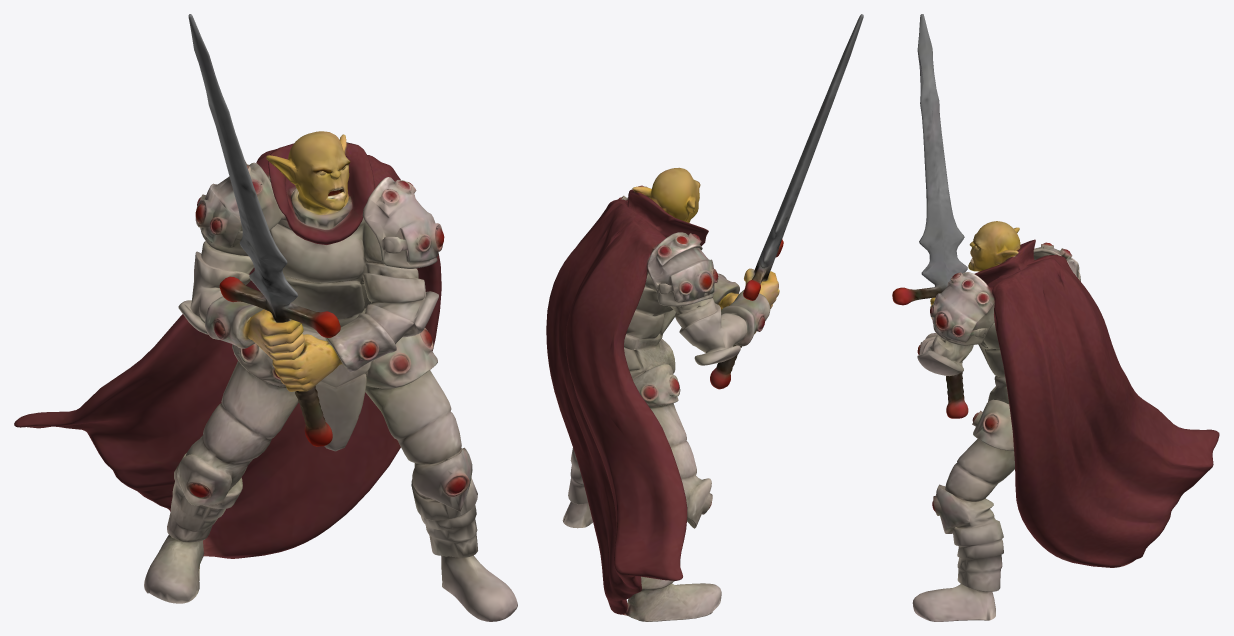
The model's file is MZ4250 - Githyanki Kithrak Male 01.glb.
3 renders of one model, left to right at view 1: azimuth 30°, elevation 25°; view 2: azimuth 150°, elevation 25°; view 3: azimuth 270°, elevation 25°, orthographic. The views are drawn at different scales.
Visible parts, largest first — view 1: default; view 2: default; view 3: default.
Boxes of the visible parts, x1,y1,x2,y2 form: default: (14,14,517,621); default: (546,14,863,621); default: (892,14,1219,621).
Bounding box in the file's own units: 0.7808 × 1.51 × 0.907.
1 material, 1 textured.
